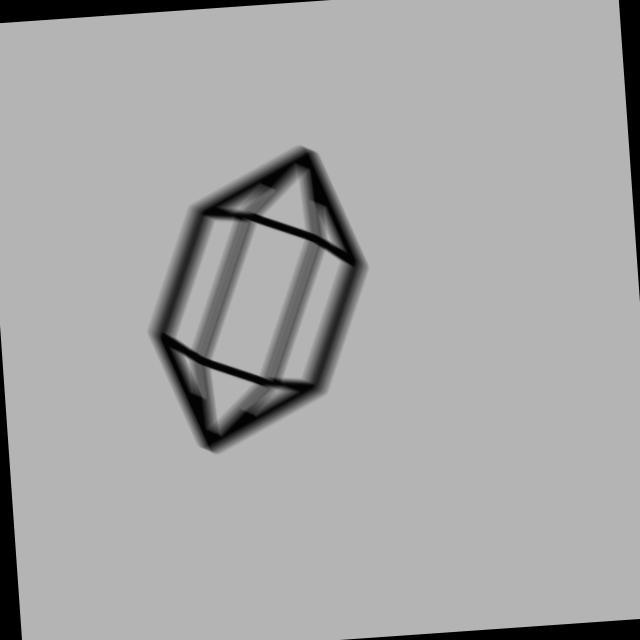crystal: (129, 135, 390, 467)
